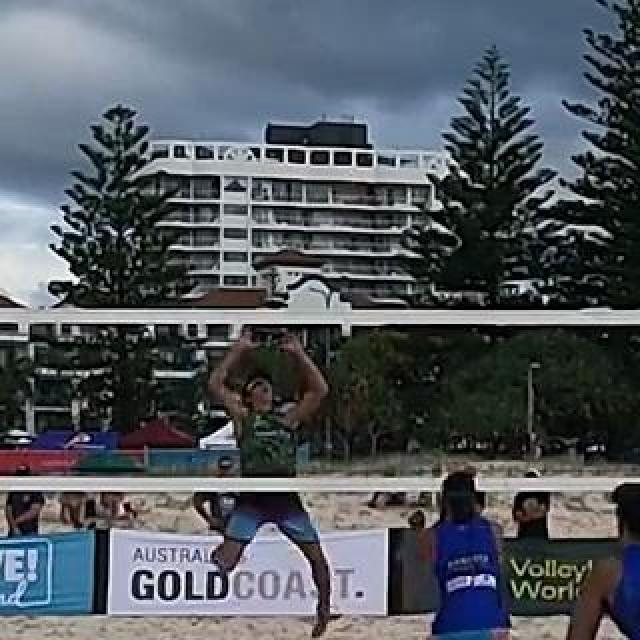volleyball: (250, 297, 292, 341), (324, 602, 342, 622)
